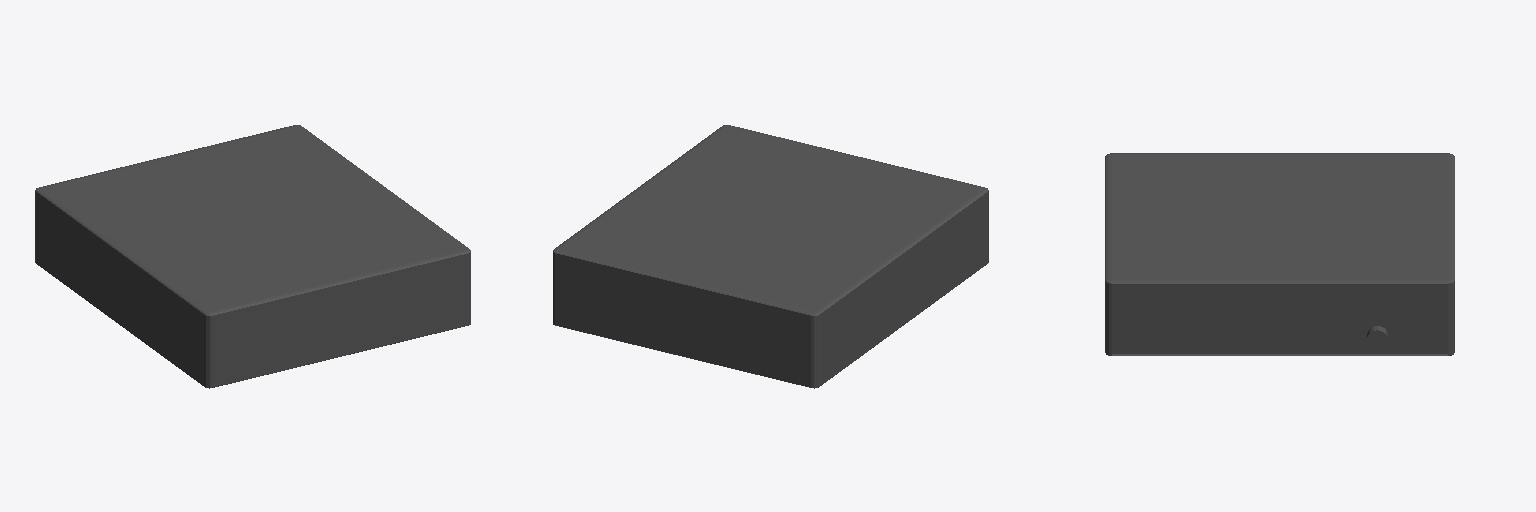
Rendered from leftupperbox.obj.
3 views of the same model, side by side, from view 1: azimuth 30°, elevation 25°; view 2: azimuth 150°, elevation 25°; view 3: azimuth 270°, elevation 25° (orthographic).
Visible parts, largest first — view 1: 立方体.023; view 2: 立方体.023; view 3: 立方体.023.
Boxes of the visible parts, <box> form: 立方体.023: <box>35,125,470,388</box>; 立方体.023: <box>553,125,988,388</box>; 立方体.023: <box>1105,153,1454,355</box>.
Size of the model in its own units: 0.1666 by 0.0439 by 0.1854.